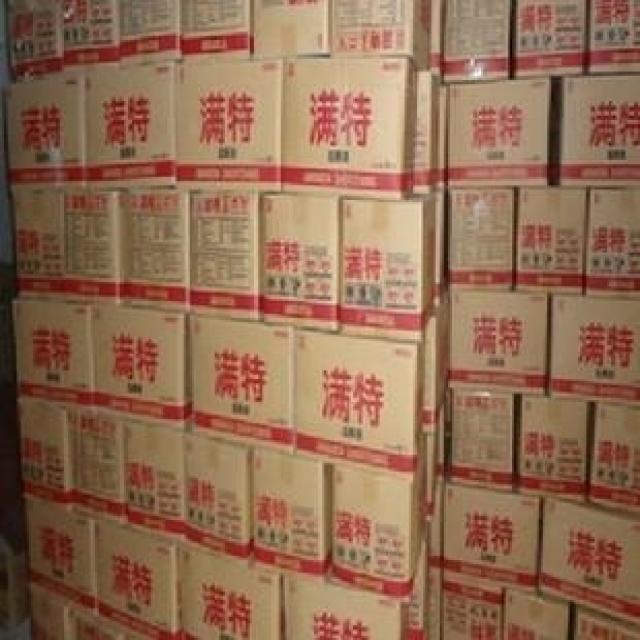box: (283, 57, 417, 202), (297, 328, 423, 482), (339, 192, 438, 347), (190, 312, 297, 455), (332, 446, 427, 604), (173, 61, 283, 189), (539, 497, 640, 627), (93, 303, 192, 434), (446, 76, 557, 187), (260, 189, 341, 333), (83, 63, 178, 185), (250, 446, 332, 583), (448, 288, 551, 396), (95, 518, 182, 640), (444, 482, 543, 589), (545, 295, 640, 406), (554, 77, 638, 200), (180, 537, 281, 638), (190, 185, 262, 322), (23, 497, 97, 619), (122, 185, 192, 312), (186, 434, 254, 564), (512, 187, 590, 297), (8, 72, 85, 183), (17, 299, 95, 408), (516, 394, 593, 503), (281, 575, 409, 638), (446, 389, 520, 493), (62, 181, 124, 305), (124, 417, 186, 537), (448, 187, 518, 291), (68, 406, 128, 526), (328, 0, 431, 69), (10, 183, 64, 301), (19, 400, 74, 509), (512, 0, 586, 78), (444, 0, 512, 82), (584, 202, 640, 299), (593, 402, 640, 516), (4, 0, 66, 80), (250, 0, 328, 63), (62, 0, 124, 72), (116, 0, 182, 67), (180, 0, 252, 61), (421, 295, 452, 432), (440, 577, 506, 640), (584, 0, 640, 74), (415, 69, 448, 192), (504, 587, 572, 638), (427, 476, 446, 638), (423, 400, 446, 524), (27, 589, 76, 640), (572, 604, 638, 640), (76, 613, 147, 640), (409, 535, 427, 640), (436, 185, 450, 303), (429, 0, 444, 82)
